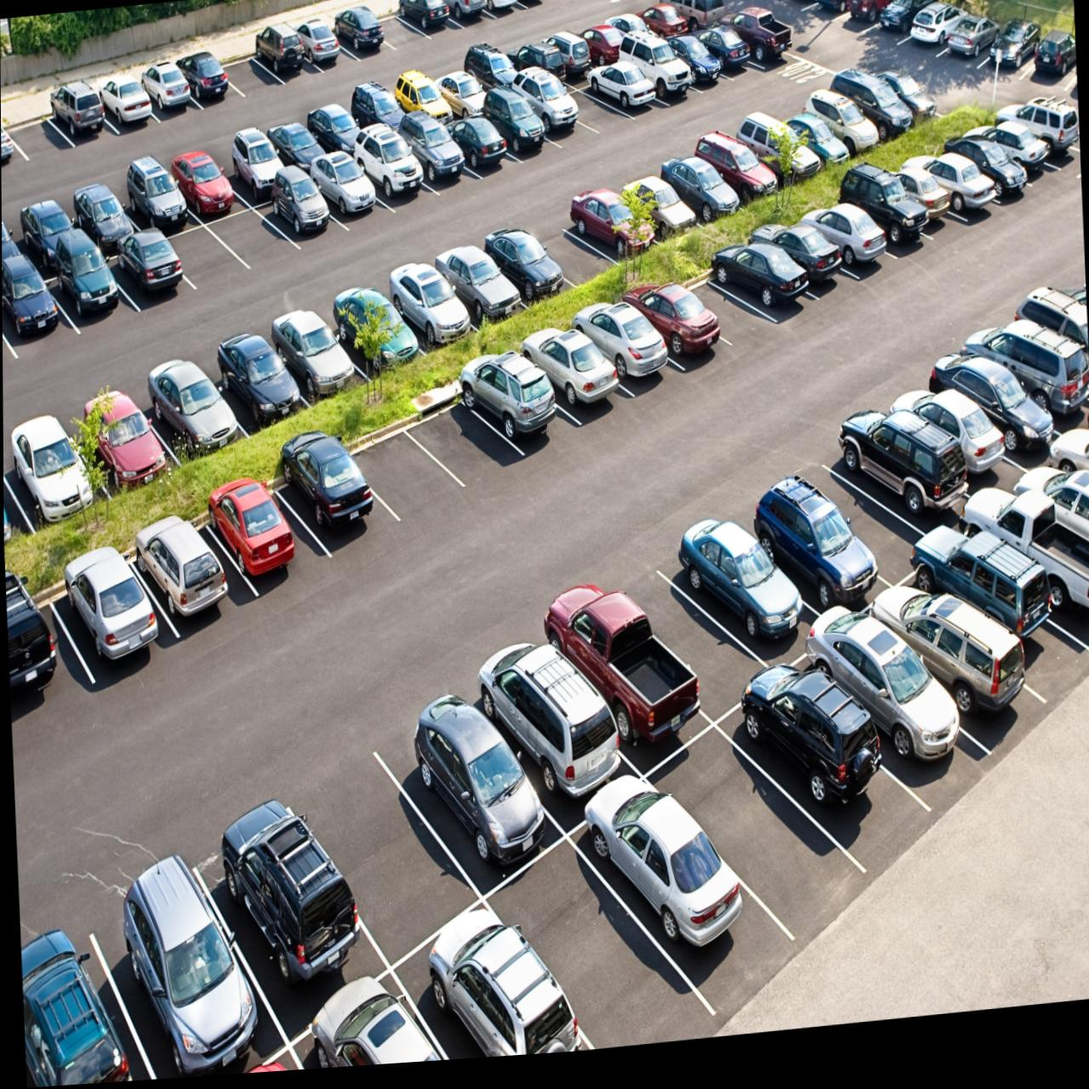cars: (111, 857, 272, 1081), (596, 760, 755, 978), (212, 805, 367, 1012), (543, 573, 697, 761), (672, 488, 817, 671), (404, 695, 547, 875), (826, 604, 958, 796), (19, 893, 146, 1088), (731, 461, 872, 627), (756, 667, 892, 839), (467, 639, 611, 801), (933, 519, 1065, 684), (887, 565, 1009, 742), (419, 914, 559, 1062), (888, 362, 1016, 504), (979, 474, 1089, 638), (834, 389, 964, 527), (959, 295, 1089, 428), (924, 339, 1057, 466), (3, 399, 104, 551), (76, 364, 184, 505), (268, 426, 381, 551), (460, 332, 572, 457), (573, 281, 675, 418), (210, 464, 324, 586), (146, 329, 249, 464), (514, 305, 622, 430), (59, 541, 159, 671), (620, 268, 732, 383), (213, 308, 315, 431), (937, 113, 1041, 227), (144, 501, 236, 628), (707, 221, 816, 328), (5, 572, 89, 710), (838, 156, 934, 276), (264, 298, 364, 409), (965, 101, 1064, 213), (802, 188, 899, 302), (51, 217, 137, 342), (309, 975, 421, 1069), (693, 111, 787, 216), (758, 206, 848, 313), (434, 221, 523, 329), (386, 246, 472, 355), (2, 233, 74, 363), (734, 93, 820, 200), (915, 134, 1001, 239), (333, 275, 420, 378), (483, 211, 576, 307), (657, 136, 745, 237), (570, 169, 662, 265), (120, 208, 200, 315), (1006, 73, 1081, 187), (834, 48, 921, 144), (878, 148, 961, 243), (617, 155, 700, 245), (800, 74, 885, 161), (313, 127, 386, 228), (357, 118, 431, 214), (271, 146, 341, 247), (862, 58, 950, 138), (776, 91, 855, 176), (119, 137, 190, 231), (70, 152, 139, 248), (592, 40, 667, 126), (622, 18, 695, 105), (518, 60, 588, 149), (403, 106, 472, 194), (484, 81, 552, 170), (730, 0, 809, 75), (15, 178, 77, 268), (232, 107, 292, 200), (176, 130, 239, 217), (451, 97, 518, 178), (50, 68, 111, 155), (667, 13, 729, 98), (348, 61, 413, 140), (696, 6, 759, 83), (308, 85, 371, 161), (251, 14, 308, 97), (426, 42, 485, 122), (174, 43, 234, 119), (264, 99, 325, 173), (502, 23, 568, 91), (987, 2, 1043, 80), (907, 0, 970, 68), (108, 58, 160, 140), (536, 15, 599, 82), (292, 5, 346, 83), (570, 0, 631, 69), (388, 58, 447, 129), (1028, 18, 1077, 100), (461, 31, 518, 100), (140, 49, 194, 120), (337, 0, 391, 71), (947, 0, 997, 72), (592, 0, 655, 55), (874, 0, 935, 50), (394, 0, 456, 46), (845, 0, 901, 44), (637, 0, 688, 41), (436, 0, 496, 30), (809, 0, 868, 30), (671, 0, 729, 21), (466, 0, 534, 15), (784, 0, 833, 12), (757, 0, 819, 9)
empty: (308, 747, 467, 950), (677, 727, 828, 917), (523, 834, 670, 1029), (629, 533, 756, 712), (791, 437, 924, 588), (348, 398, 447, 540), (408, 368, 507, 496), (675, 251, 775, 368), (527, 185, 618, 288), (217, 170, 293, 269), (173, 199, 243, 302), (555, 54, 627, 138), (221, 25, 275, 105), (16, 104, 67, 172), (370, 0, 424, 63)
